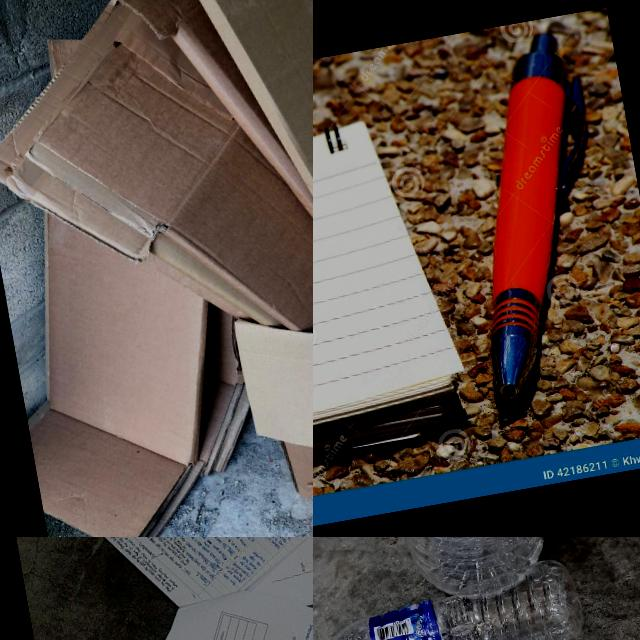garrafa plástica: (313, 555, 594, 640), (345, 537, 577, 611)
papel: (313, 105, 477, 500), (16, 537, 313, 640)
papelão: (0, 12, 275, 537), (0, 0, 313, 396), (231, 274, 313, 537)
